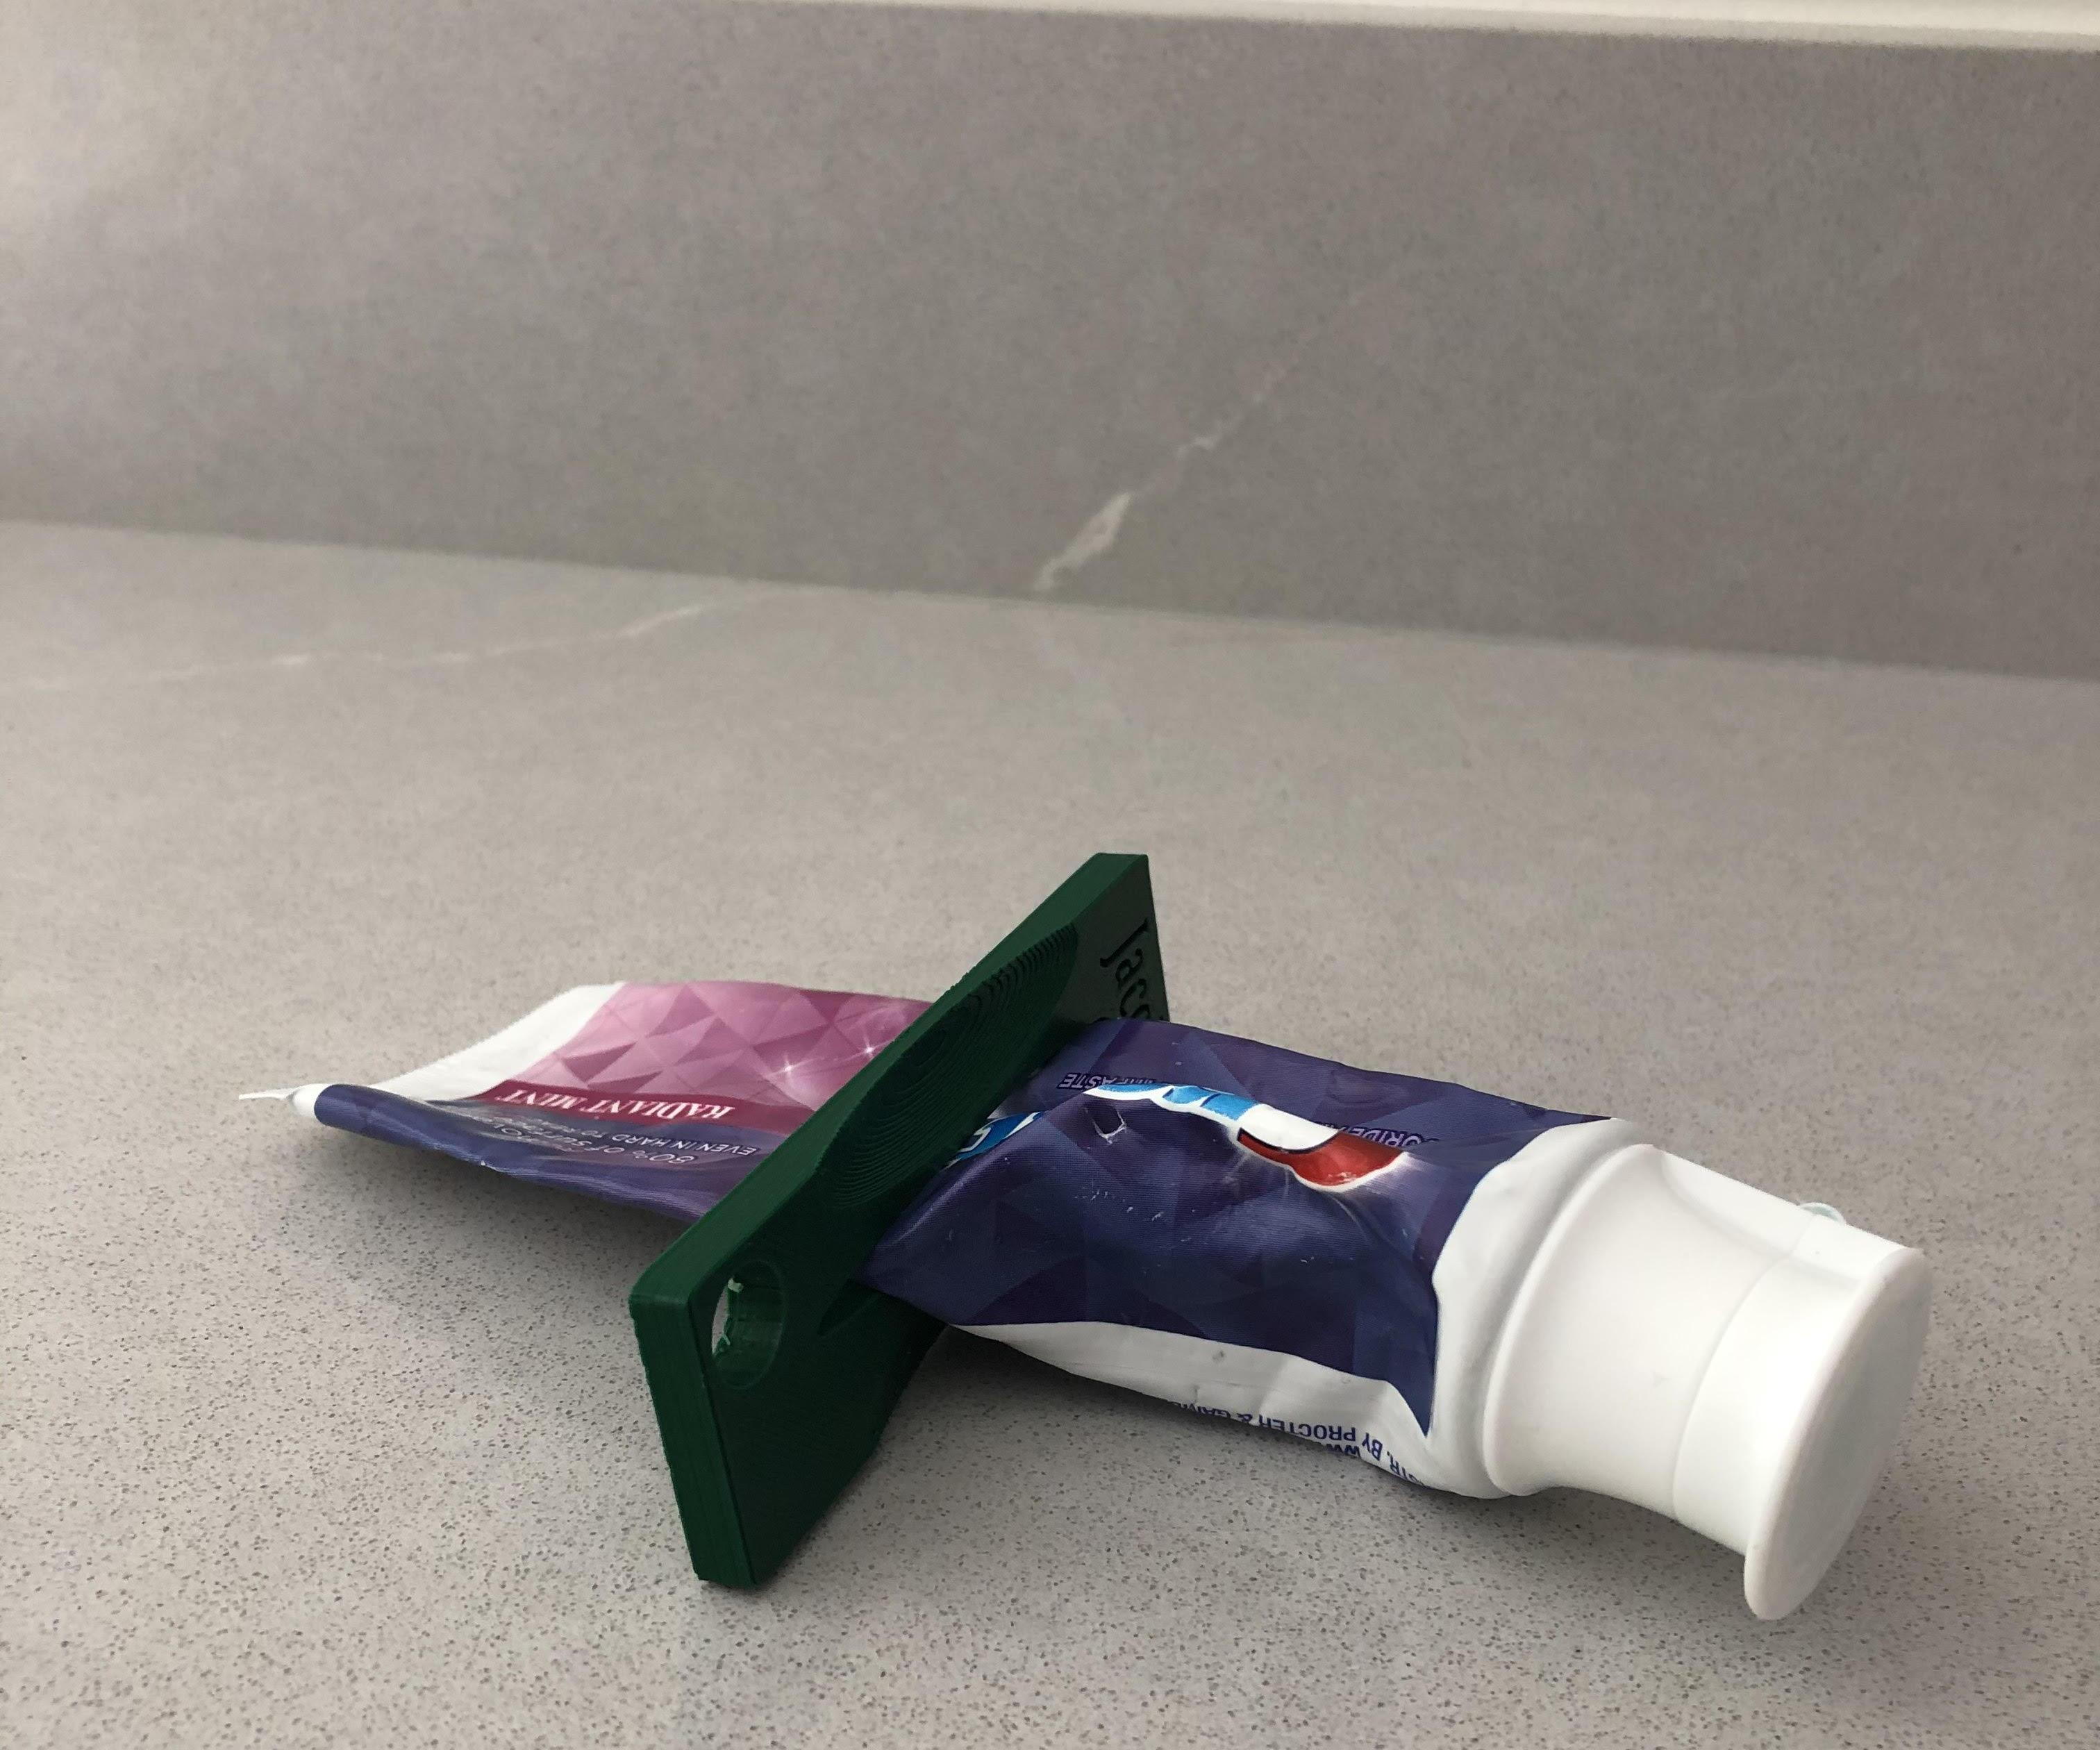toothpaste: (267, 855, 1929, 1651)
